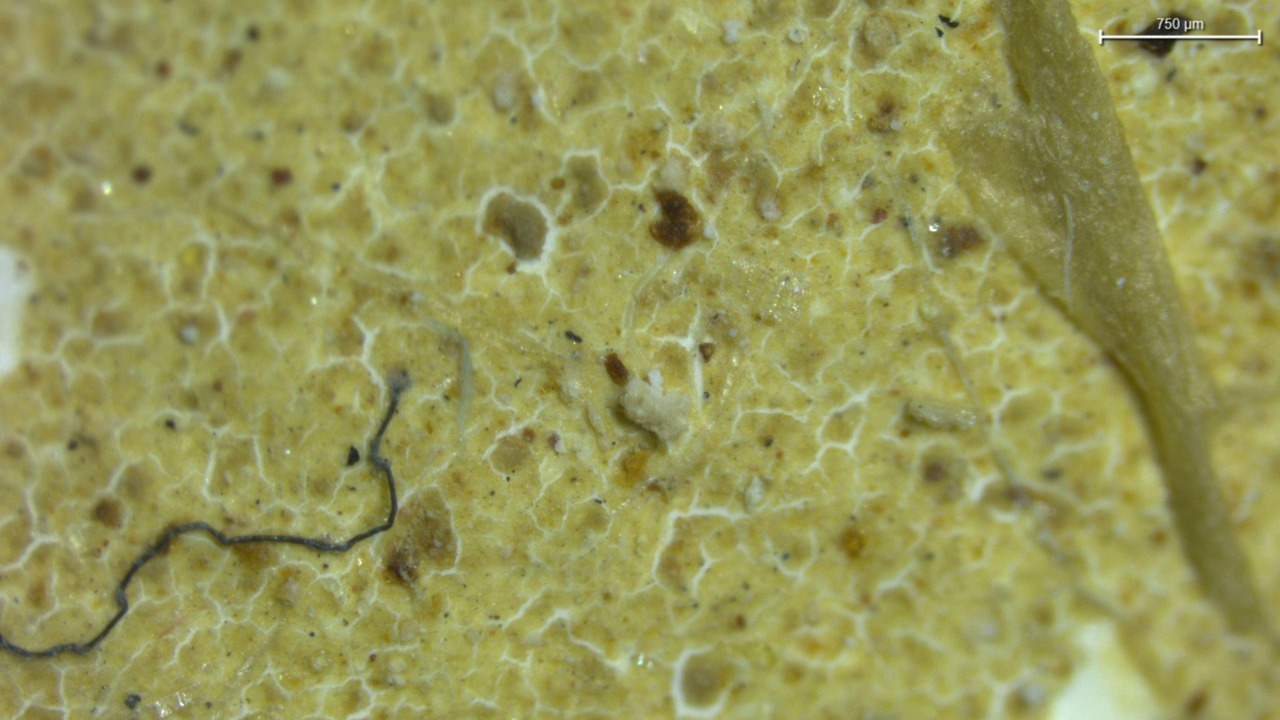microplastic_fragment: (620, 377, 690, 444)
